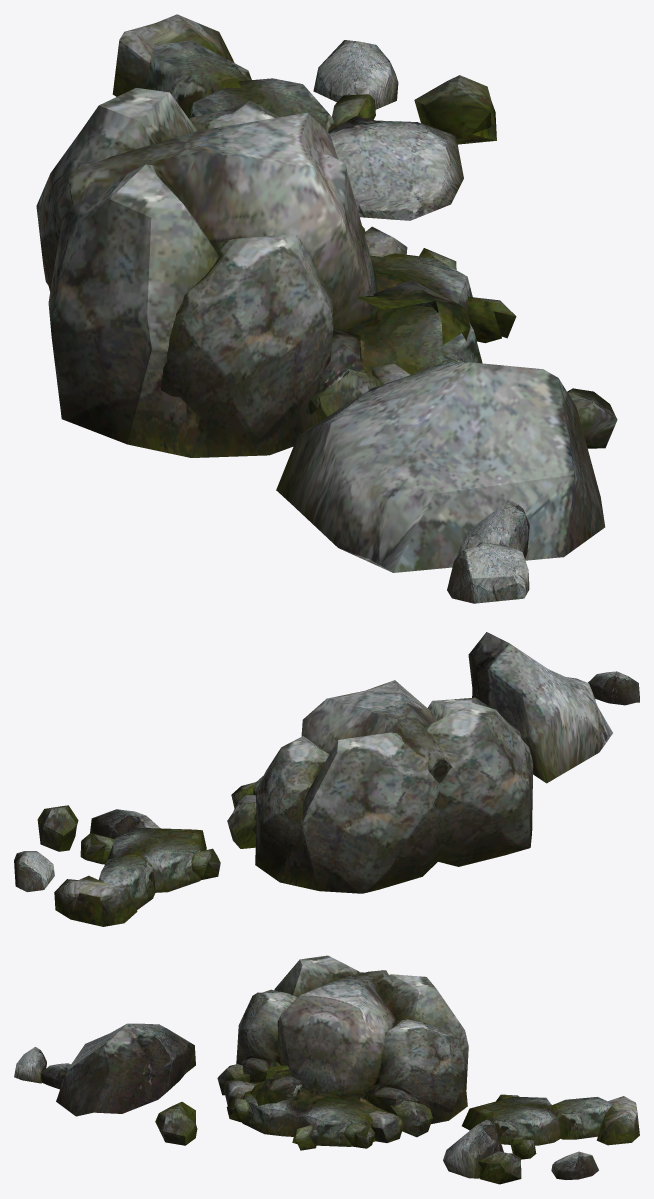
File: dashitou04.FBX
3 renders of one model, top to bottom at view 1: azimuth 30°, elevation 25°; view 2: azimuth 150°, elevation 25°; view 3: azimuth 270°, elevation 25°, orthographic. The views are drawn at different scales.
Parts seen in each view (by area): view 1: 对象004, 对象002, 对象001, 对象003; view 2: 对象004, 对象001, 对象002; view 3: 对象004, 对象001, 对象002, 对象003.
Boxes of the visible parts, bbox=[...] form: 对象004: bbox=[36, 88, 516, 457]; 对象002: bbox=[276, 361, 605, 603]; 对象001: bbox=[112, 14, 496, 220]; 对象003: bbox=[567, 388, 617, 448]; 对象004: bbox=[227, 680, 533, 893]; 对象001: bbox=[14, 805, 220, 926]; 对象002: bbox=[468, 632, 639, 783]; 对象004: bbox=[217, 955, 468, 1150]; 对象001: bbox=[443, 1094, 639, 1184]; 对象002: bbox=[14, 1023, 195, 1116]; 对象003: bbox=[155, 1102, 197, 1145].
Bounding box in the file's own units: 3.84 × 1.31 × 6.72.
